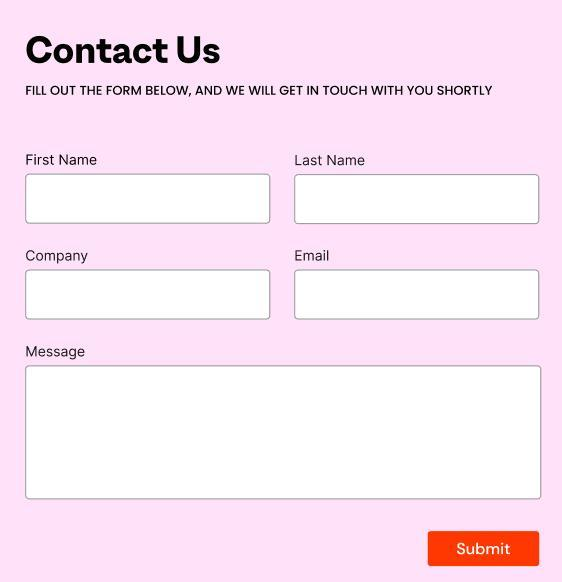button: (429, 532, 540, 567)
input: (26, 269, 273, 321), (26, 173, 270, 225), (296, 175, 541, 225), (295, 270, 540, 319)
label: (26, 32, 223, 70), (292, 152, 369, 173), (25, 149, 100, 170), (26, 342, 88, 365), (23, 246, 92, 266), (293, 248, 331, 266)
